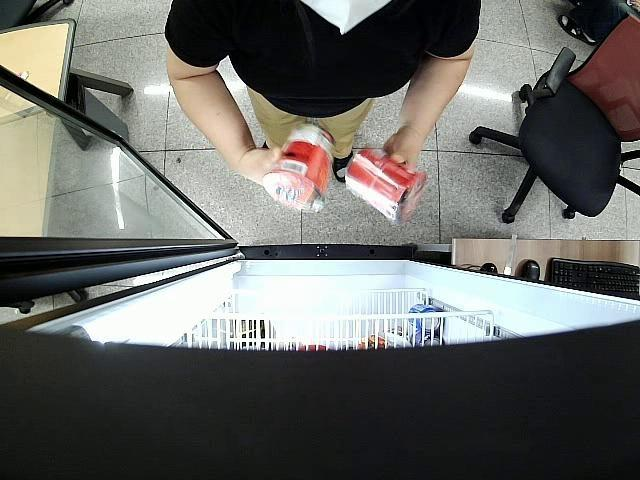02_shinRamen_S: (263, 122, 336, 214), (345, 145, 426, 224)
